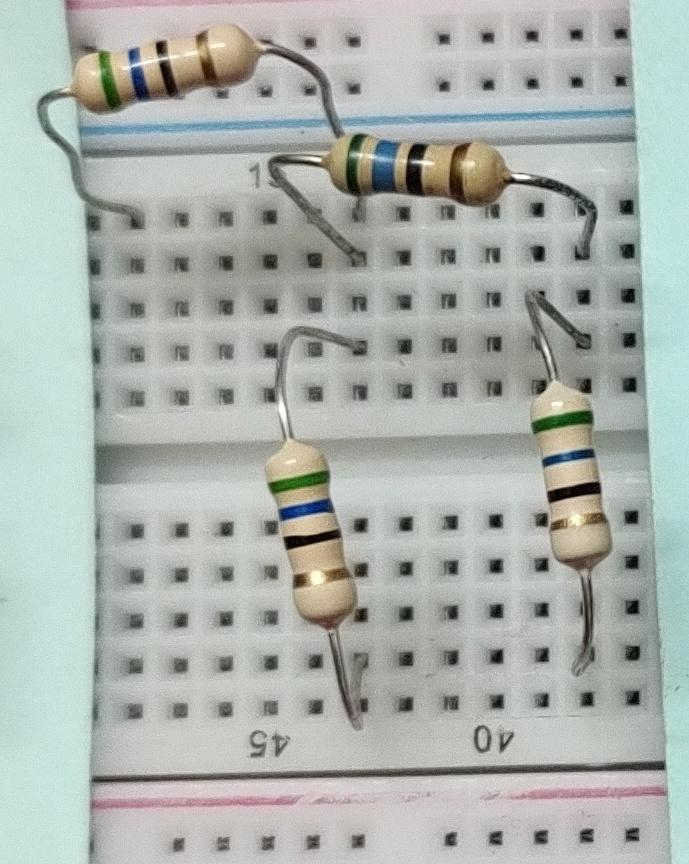resistor: (257, 424, 374, 636), (65, 22, 266, 121), (520, 369, 613, 576), (320, 124, 515, 214)
